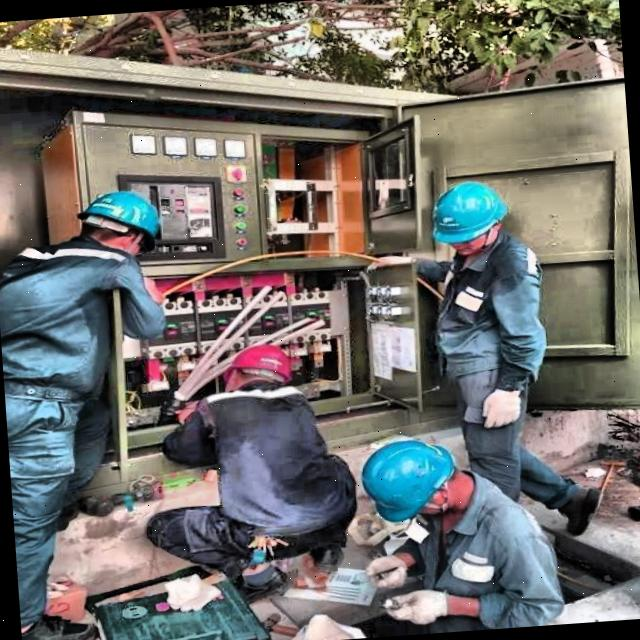helmet: (351, 430, 469, 539), (425, 176, 516, 261), (78, 184, 168, 263), (223, 340, 298, 398)
